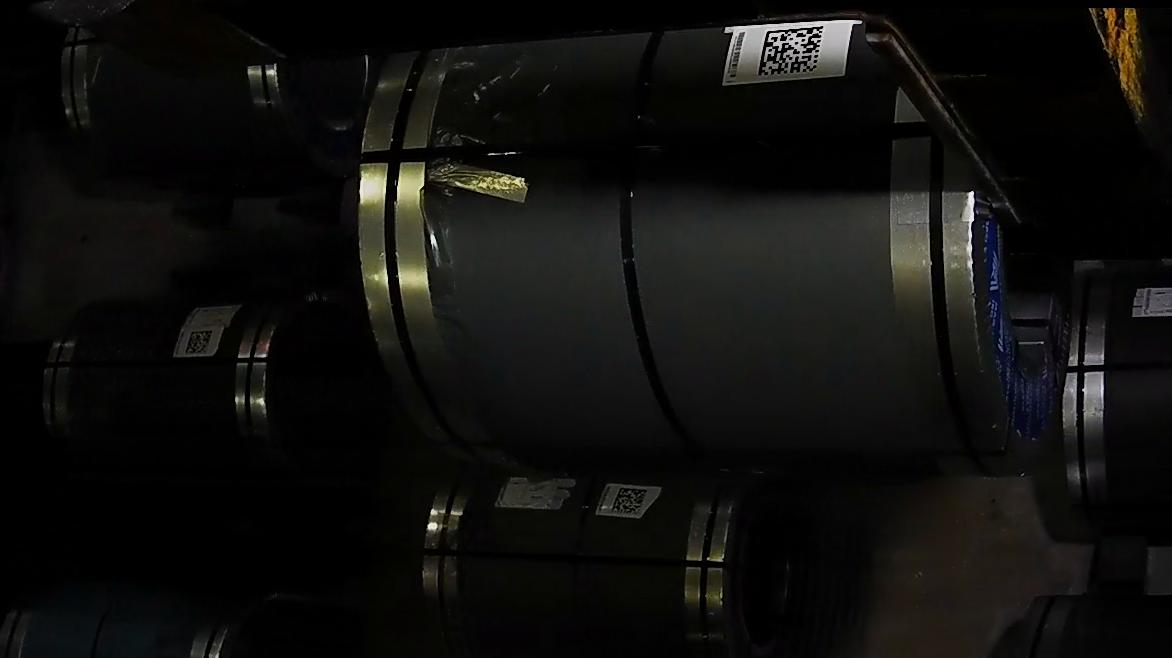data matrix: (757, 26, 826, 84), (611, 486, 650, 520), (184, 328, 216, 359)
